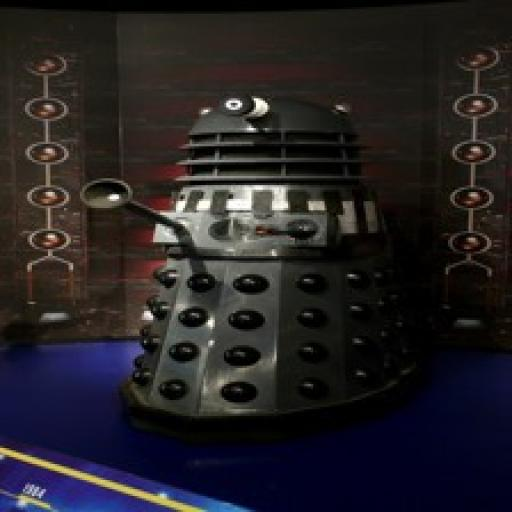dalek: (78, 88, 424, 440)
